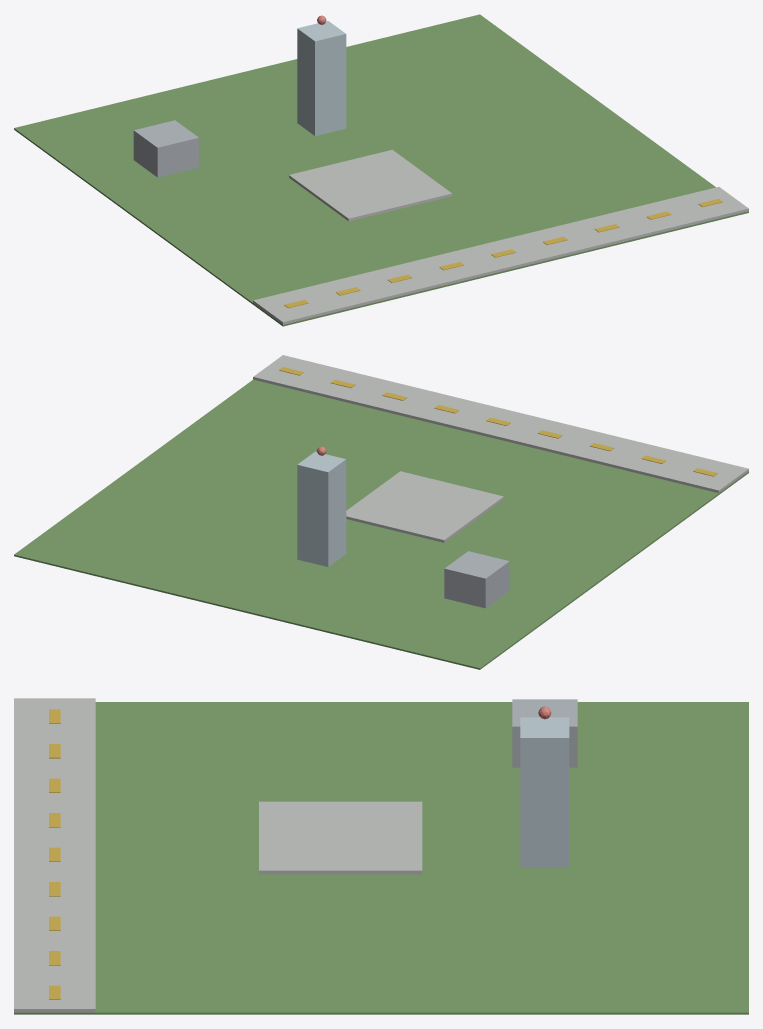
File: stage_03.glb
3 views of the same model, one above another, from view 1: azimuth 30°, elevation 25°; view 2: azimuth 150°, elevation 25°; view 3: azimuth 270°, elevation 25° (orthographic). The views are drawn at different scales.
Parts seen in each view (by area): view 1: geometry_0; view 2: geometry_0; view 3: geometry_0.
Part boxes in pixels (<box>): geometry_0: <box>14,14,748,326</box>; geometry_0: <box>14,355,748,669</box>; geometry_0: <box>14,698,748,1014</box>.
Size of the model in its own units: 9 by 2.06 by 9.
